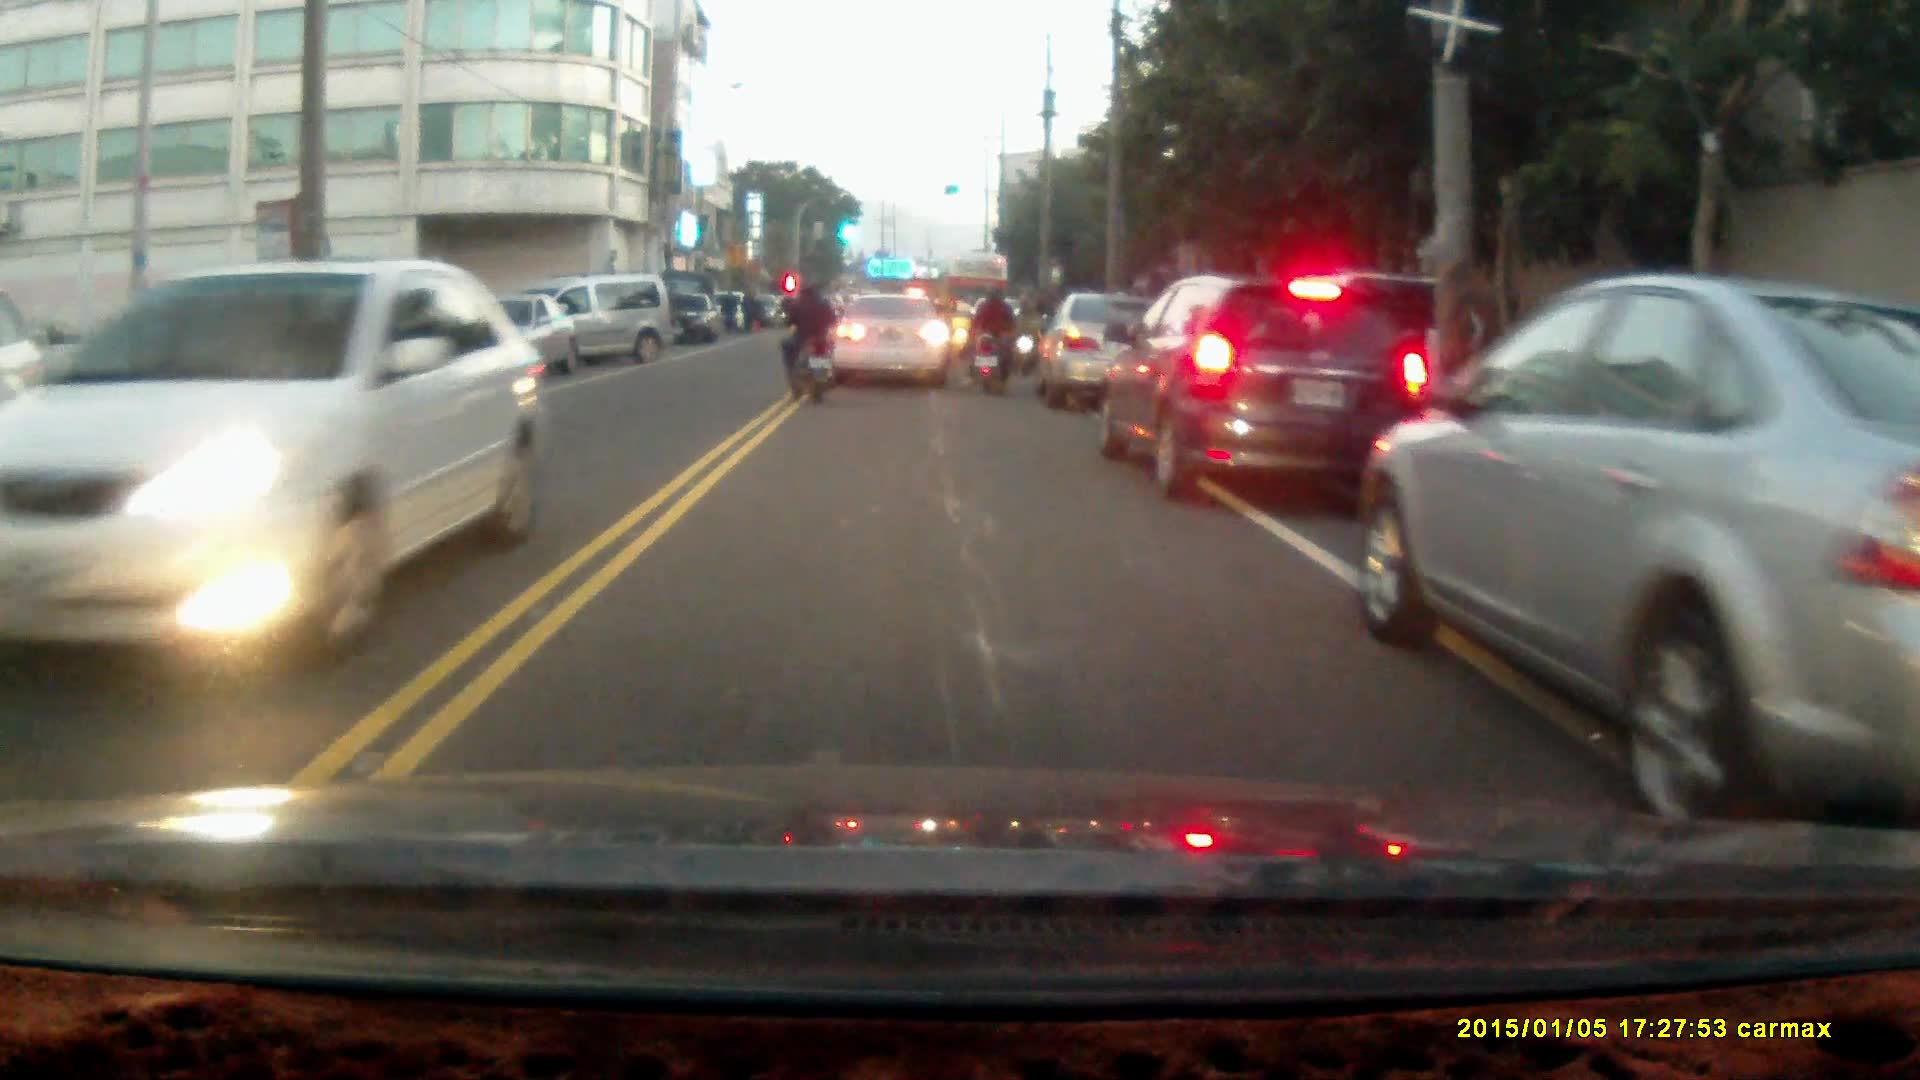rider: (777, 278, 837, 403), (964, 280, 1021, 395)
vehicle: (1370, 267, 1920, 818), (7, 257, 533, 666), (1090, 266, 1429, 497), (422, 290, 587, 387), (1039, 294, 1159, 410), (539, 275, 672, 370), (832, 289, 949, 393), (666, 293, 721, 345)
